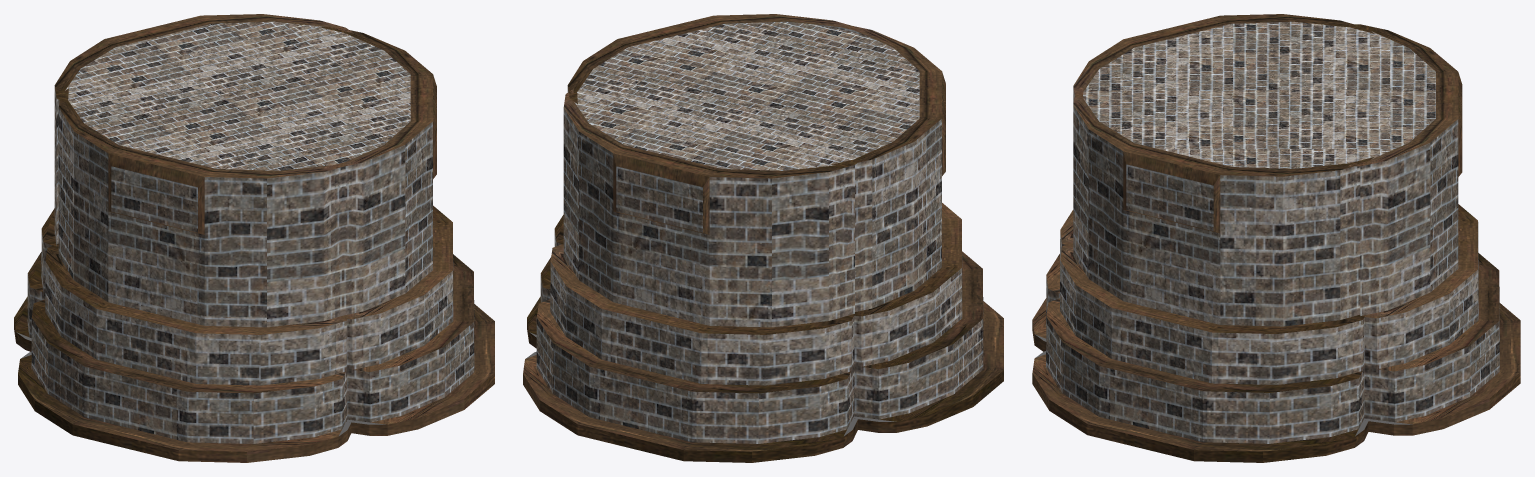
The model's file is C_Monument_1.fbx.
The picture shows the model from 3 angles, left to right: view 1: azimuth 30°, elevation 25°; view 2: azimuth 150°, elevation 25°; view 3: azimuth 270°, elevation 25°; orthographic projection.
Visible parts, largest first — view 1: Cube; view 2: Cube; view 3: Cube.
Part boxes in pixels (<box>): Cube: <box>14,14,494,462</box>; Cube: <box>523,14,1003,462</box>; Cube: <box>1032,14,1520,462</box>.
Bounding box in the file's own units: 8.91 × 5.16 × 8.71.
